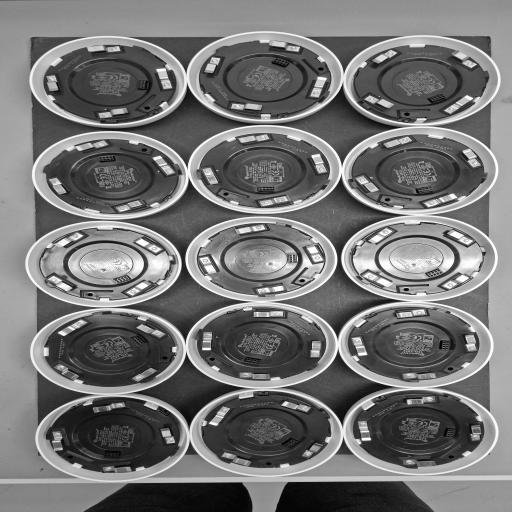konnektor: (134, 76, 152, 92), (96, 154, 120, 164), (414, 185, 436, 195), (130, 335, 148, 347), (285, 252, 300, 266), (423, 268, 444, 278), (272, 57, 292, 67), (111, 274, 131, 284), (280, 438, 300, 448), (438, 339, 454, 351), (426, 94, 445, 104), (256, 184, 274, 194), (102, 450, 122, 458), (244, 357, 262, 365), (442, 428, 456, 438)
yaysiz: (55, 318, 90, 338), (446, 48, 479, 69), (219, 451, 257, 469), (362, 270, 396, 288), (445, 94, 475, 114), (367, 49, 400, 67), (364, 94, 397, 112), (53, 363, 86, 381), (423, 192, 460, 208), (148, 154, 176, 175), (308, 74, 332, 98), (442, 271, 474, 289), (48, 274, 78, 293), (131, 236, 164, 253), (226, 224, 269, 237), (444, 228, 475, 246), (156, 422, 180, 445), (46, 430, 69, 454), (97, 105, 133, 120), (278, 399, 314, 414), (402, 368, 440, 382), (53, 233, 84, 250), (207, 406, 232, 427), (366, 228, 395, 246), (456, 148, 482, 168), (72, 140, 109, 154), (399, 456, 442, 468), (130, 366, 160, 383), (306, 152, 329, 174), (350, 335, 372, 358), (262, 40, 304, 52), (234, 134, 272, 147), (379, 136, 414, 150), (115, 198, 150, 212), (128, 278, 155, 296), (90, 401, 127, 414), (82, 44, 122, 56), (354, 176, 380, 194), (258, 194, 294, 207), (134, 323, 165, 338), (304, 243, 326, 264), (153, 67, 173, 90), (49, 176, 72, 196), (197, 256, 220, 276), (100, 461, 138, 473), (201, 56, 223, 76), (230, 102, 266, 114), (245, 310, 288, 320), (304, 439, 326, 458), (198, 330, 216, 353), (392, 309, 426, 321), (402, 395, 439, 406), (202, 168, 222, 188), (238, 370, 278, 380), (357, 419, 373, 444), (461, 332, 479, 354), (45, 74, 63, 94), (467, 422, 484, 442), (256, 284, 289, 294), (310, 337, 322, 359)
